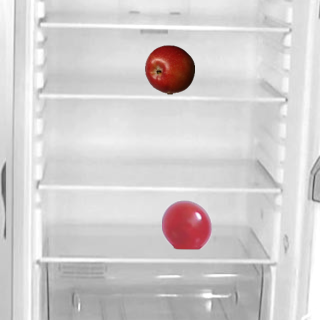Apple Braeburn: (144, 44, 194, 94)
Redcurrant: (161, 199, 211, 249)
